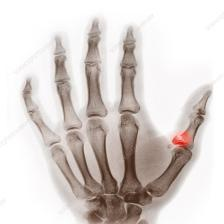avulsion-fracture: (22, 12, 220, 224)
